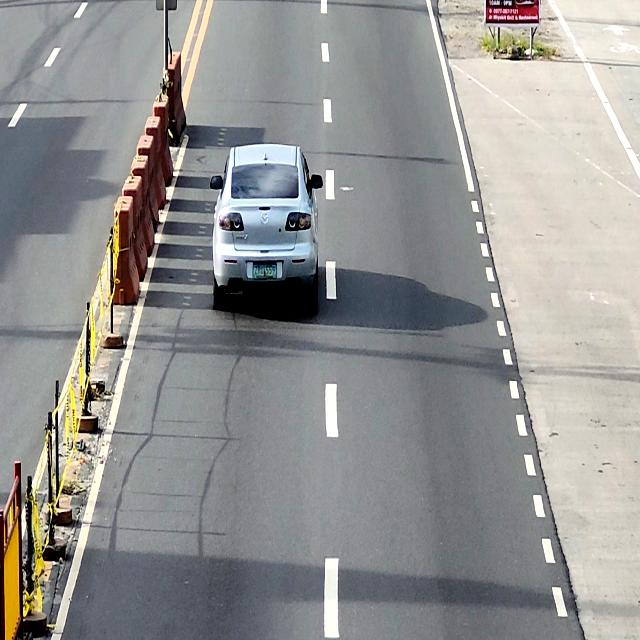Car: (210, 142, 322, 311)
License-Plate: (248, 259, 279, 280)
